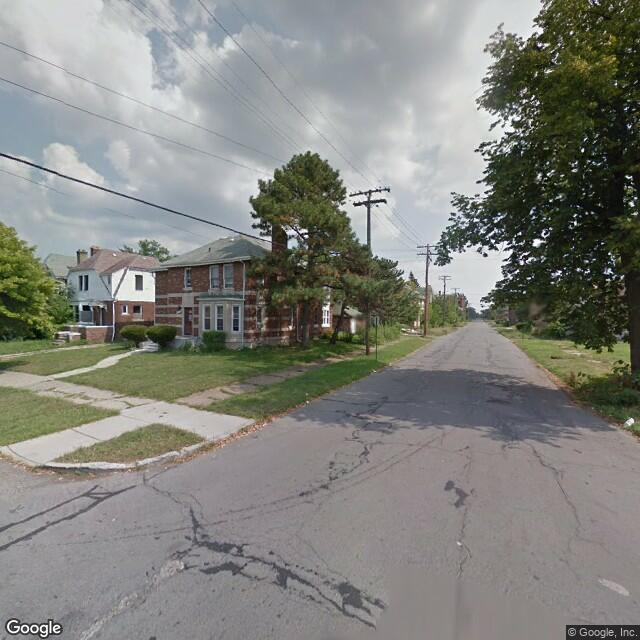litter: (624, 415, 634, 429), (305, 398, 309, 405), (371, 369, 375, 373), (388, 360, 391, 365)
